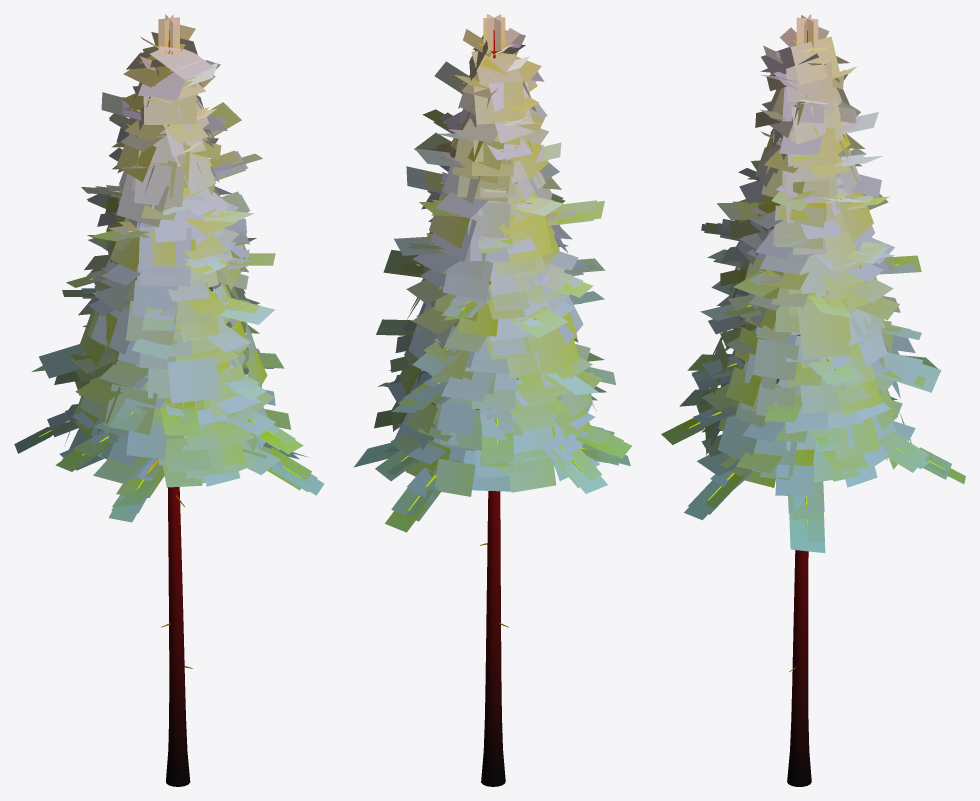
File: hinoki_1.glb
3 views of the same model, side by side, from view 1: azimuth 30°, elevation 25°; view 2: azimuth 150°, elevation 25°; view 3: azimuth 270°, elevation 25° (orthographic).
Parts seen in each view (by area): view 1: hinoki_1_lod0; view 2: hinoki_1_lod0; view 3: hinoki_1_lod0.
Part boxes in pixels (x1,y1,x2,y2): hinoki_1_lod0: [14, 14, 324, 786]; hinoki_1_lod0: [353, 14, 631, 786]; hinoki_1_lod0: [661, 14, 965, 786].
Size of what is drawn, in the model's own units: 8.82 by 24.13 by 8.76.
